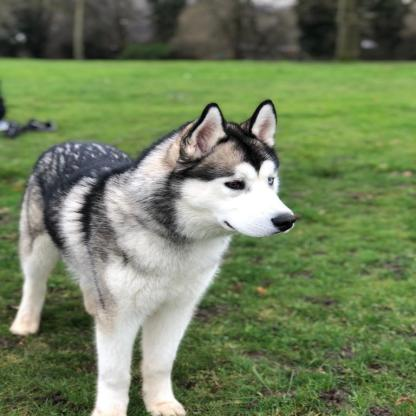husky: (6, 98, 294, 416)
